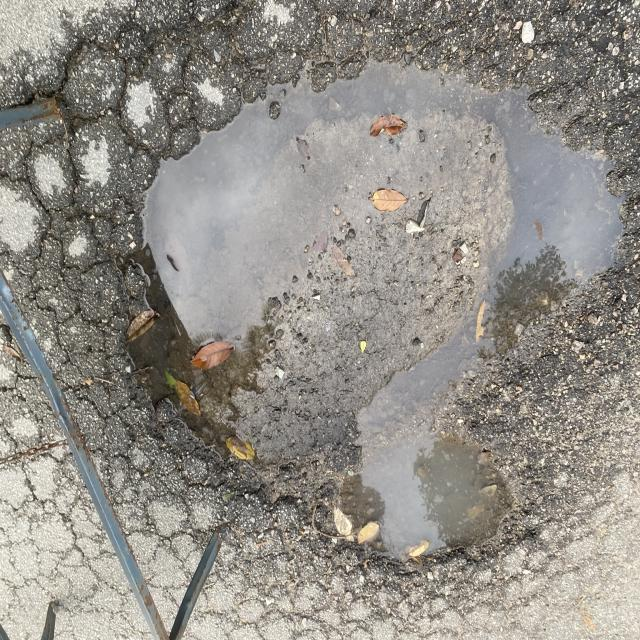pothole: (44, 11, 570, 598)
